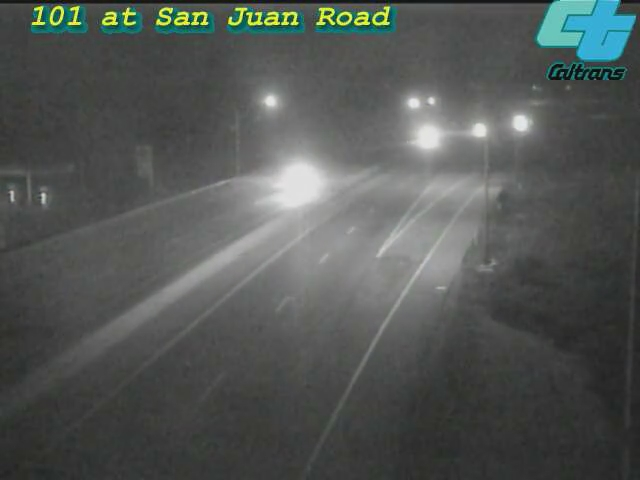vehicle: (258, 143, 338, 223), (401, 113, 451, 163), (455, 104, 505, 154), (495, 98, 545, 148)
